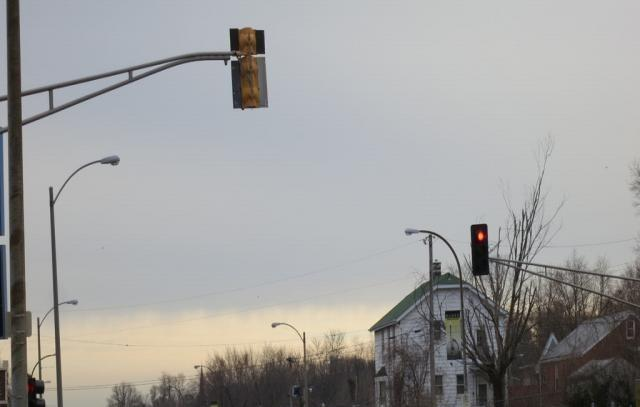red_light: (471, 224, 490, 275)
